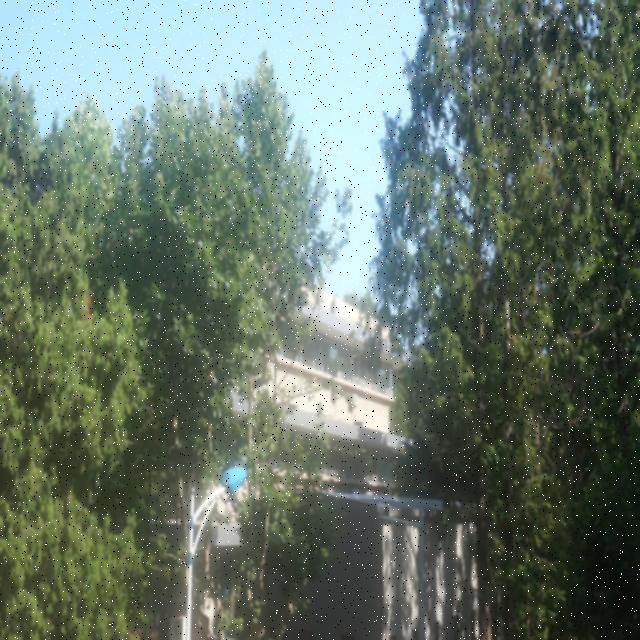UAV: (344, 360, 353, 367)
